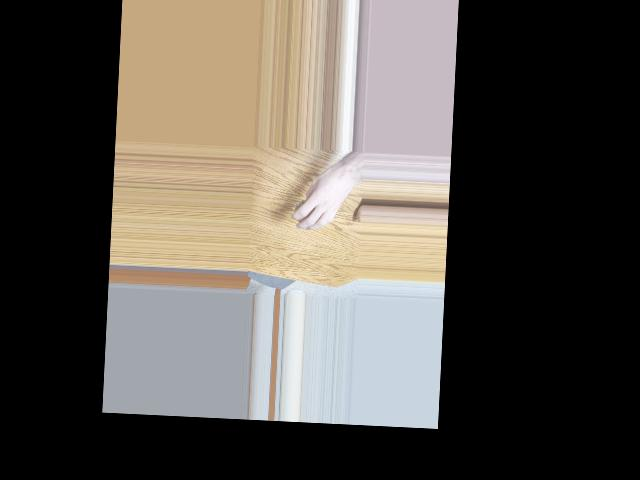onion: (294, 196, 317, 223)
